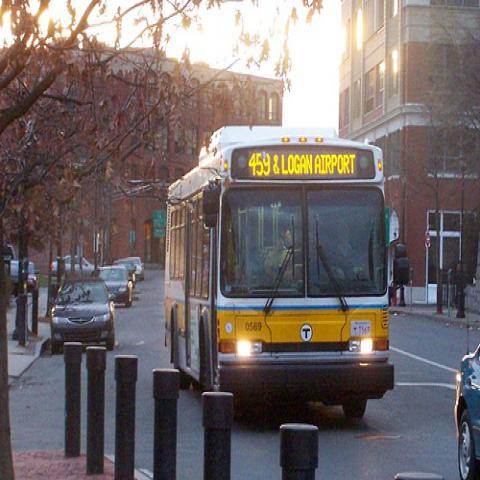bus: (161, 125, 397, 423)
car: (50, 277, 114, 353), (454, 340, 480, 476), (95, 266, 134, 307), (10, 261, 40, 297), (50, 255, 94, 279), (112, 259, 137, 283), (126, 257, 144, 279)
